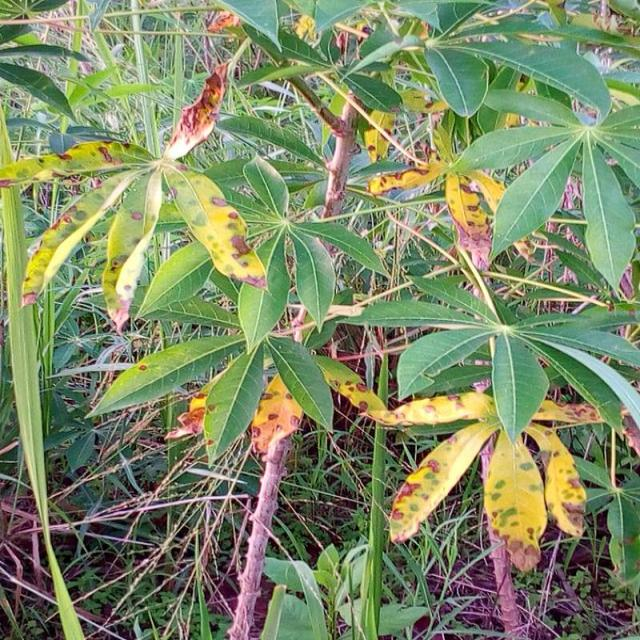cassava leaf: (169, 168, 269, 290)
